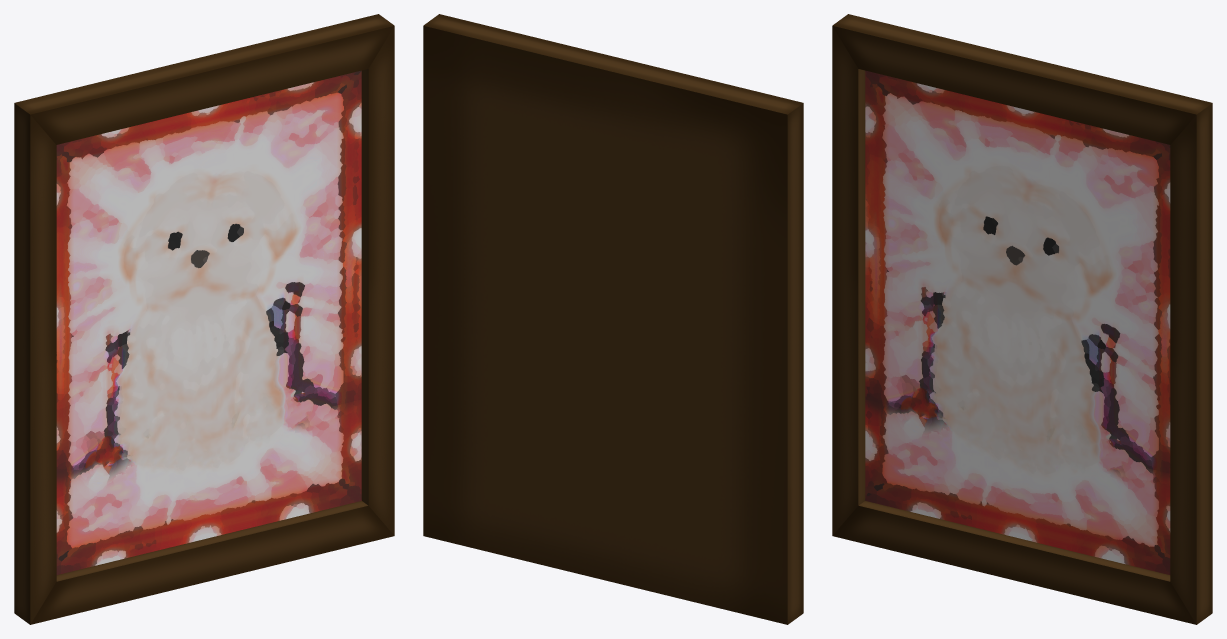
The model's file is Picture_Frame_Chubb.fbx.
3 views of the same model, side by side, from view 1: azimuth 30°, elevation 25°; view 2: azimuth 150°, elevation 25°; view 3: azimuth 330°, elevation 25° (orthographic).
Visible parts, largest first — view 1: Picture_Frame_Chubb1; view 2: Picture_Frame_Chubb1; view 3: Picture_Frame_Chubb1.
Boxes of the visible parts, box(x1,y1,x2,y2) form: Picture_Frame_Chubb1: box(14, 14, 394, 624); Picture_Frame_Chubb1: box(423, 14, 803, 624); Picture_Frame_Chubb1: box(832, 14, 1212, 624).
Size of the model in its own units: 6.63 by 8.87 by 0.5047.
1 material, 1 textured.
